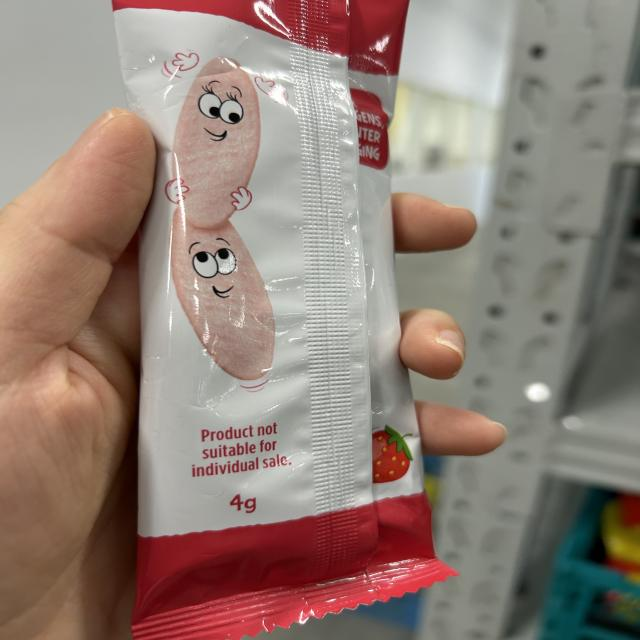object_name: (131, 2, 394, 618)
